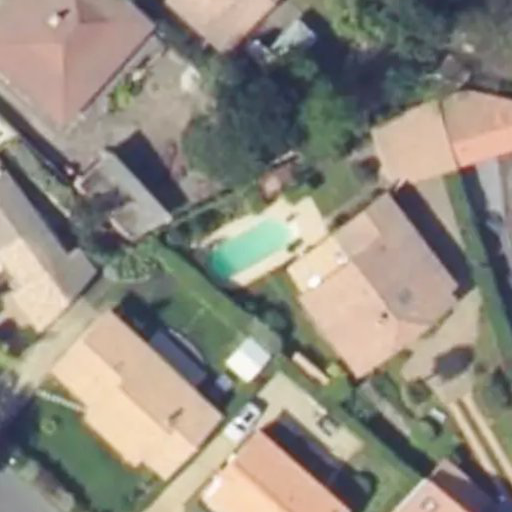pool: (208, 211, 295, 273)
